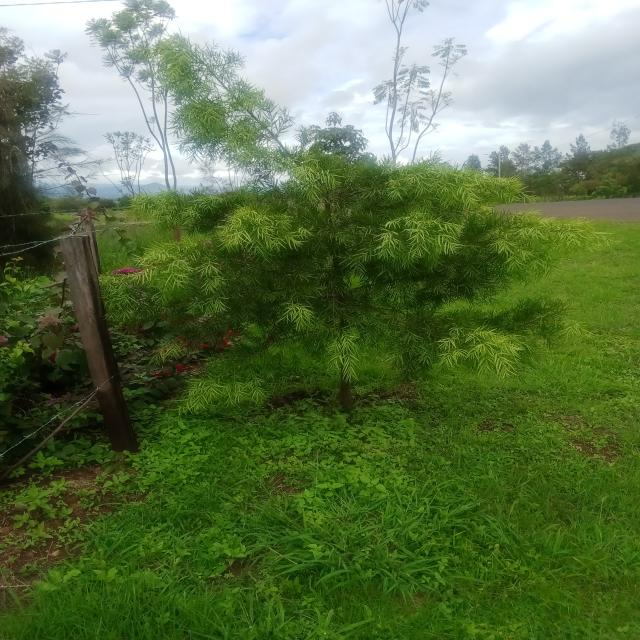Podocarpus falcatus: (121, 49, 594, 423)
